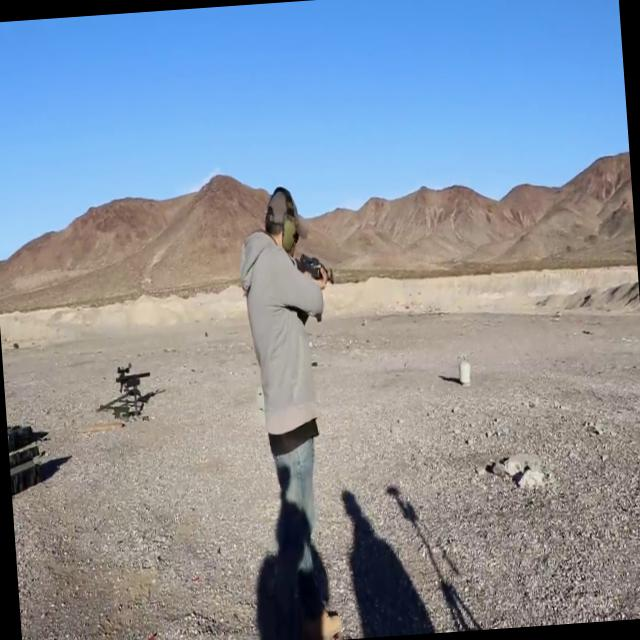long weapon: (275, 248, 347, 334), (112, 350, 178, 420)
